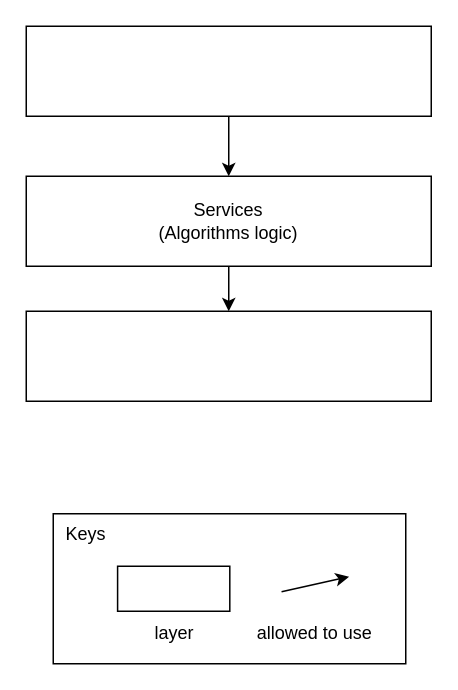
The diagram is 458 pixels wide and 690 high, and some of its shapes have lost their labels. Here are the shapes that lost their labels. From the top down, the centre of each, then its label:
(228,70): Procedures (Procedures definition)
(228,355): Repositories (Data access logic)
